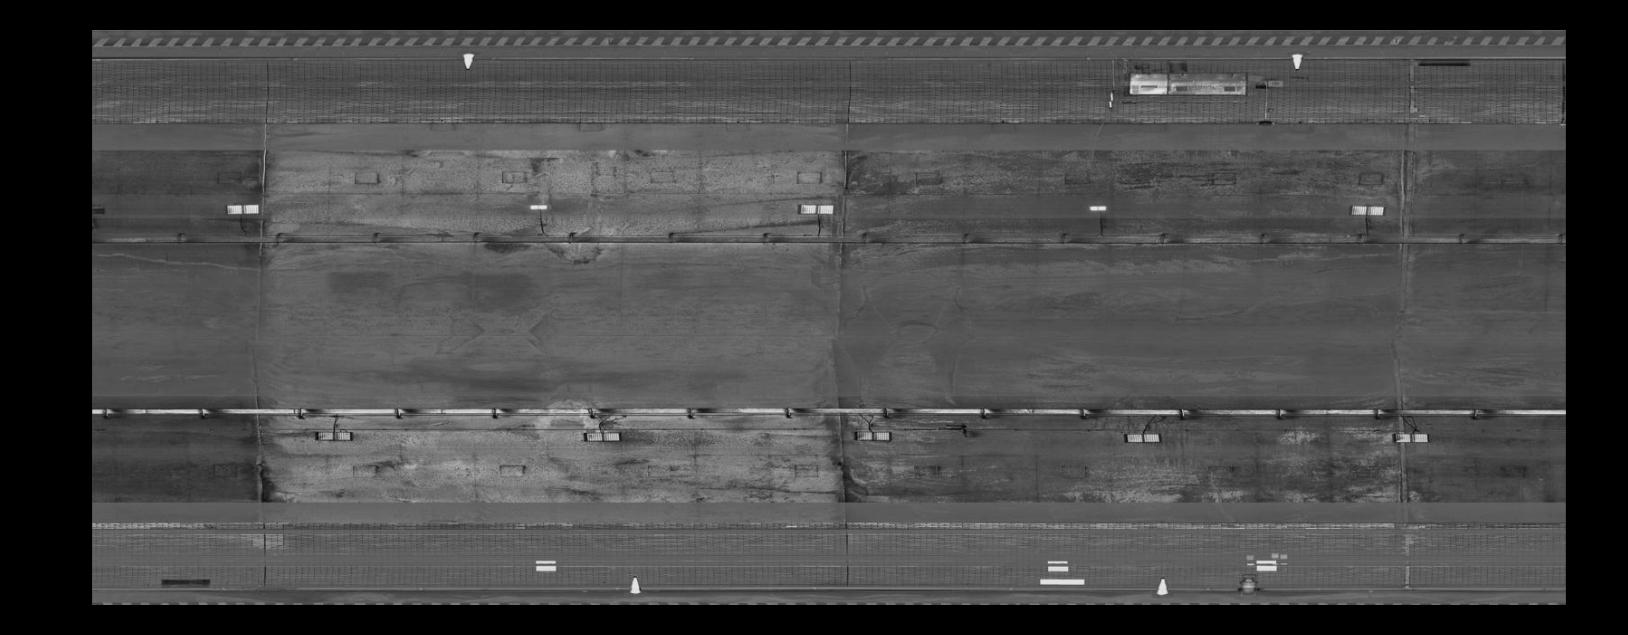light: (577, 429, 623, 446), (1119, 430, 1165, 447), (848, 427, 895, 444), (310, 427, 356, 444), (1344, 202, 1388, 218), (1389, 430, 1432, 445), (220, 200, 261, 215), (796, 201, 837, 216), (524, 202, 553, 212), (1084, 203, 1113, 212)
